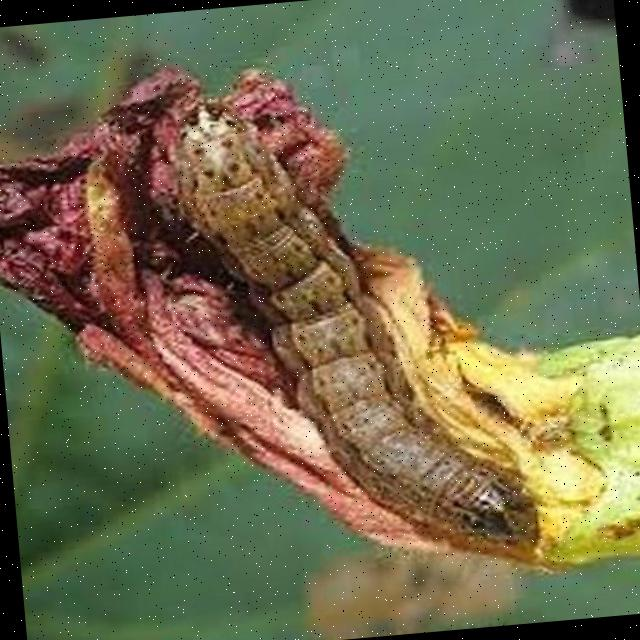worm: (158, 66, 554, 595)
